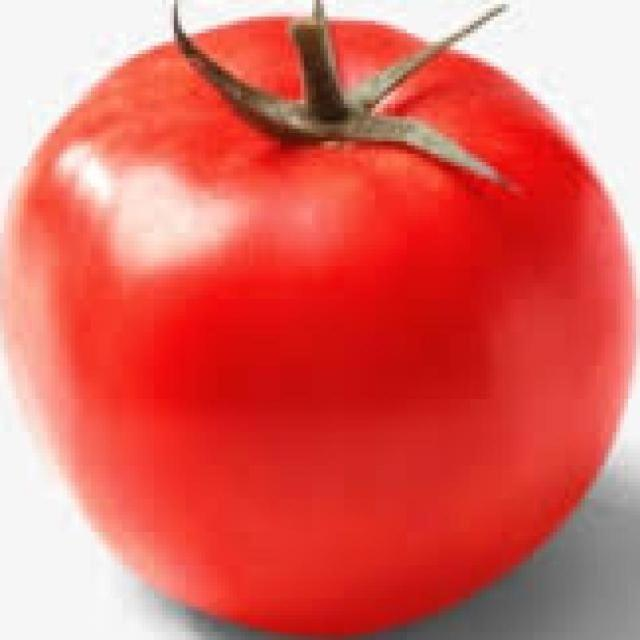Healthy Fruit: (19, 12, 427, 426)
